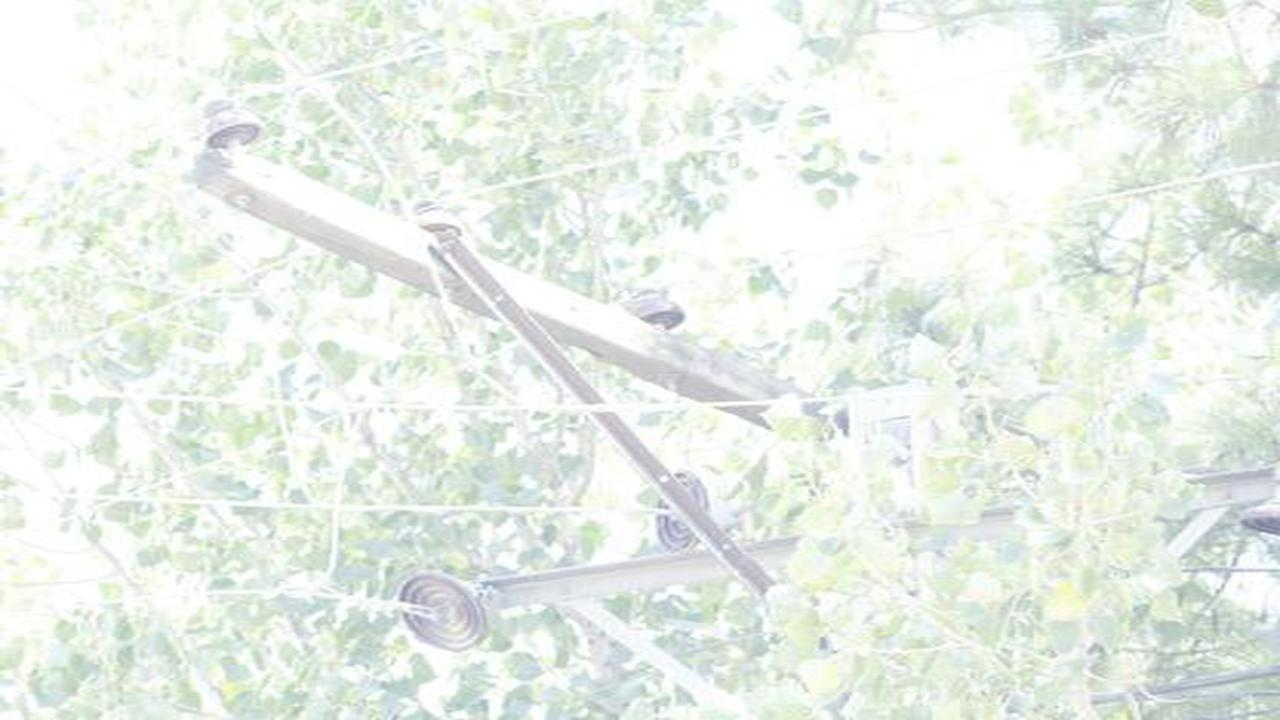insulator_disc: (393, 568, 488, 657), (652, 468, 714, 561)
insulator_pin: (196, 93, 263, 154), (624, 279, 691, 332), (411, 189, 465, 241)
